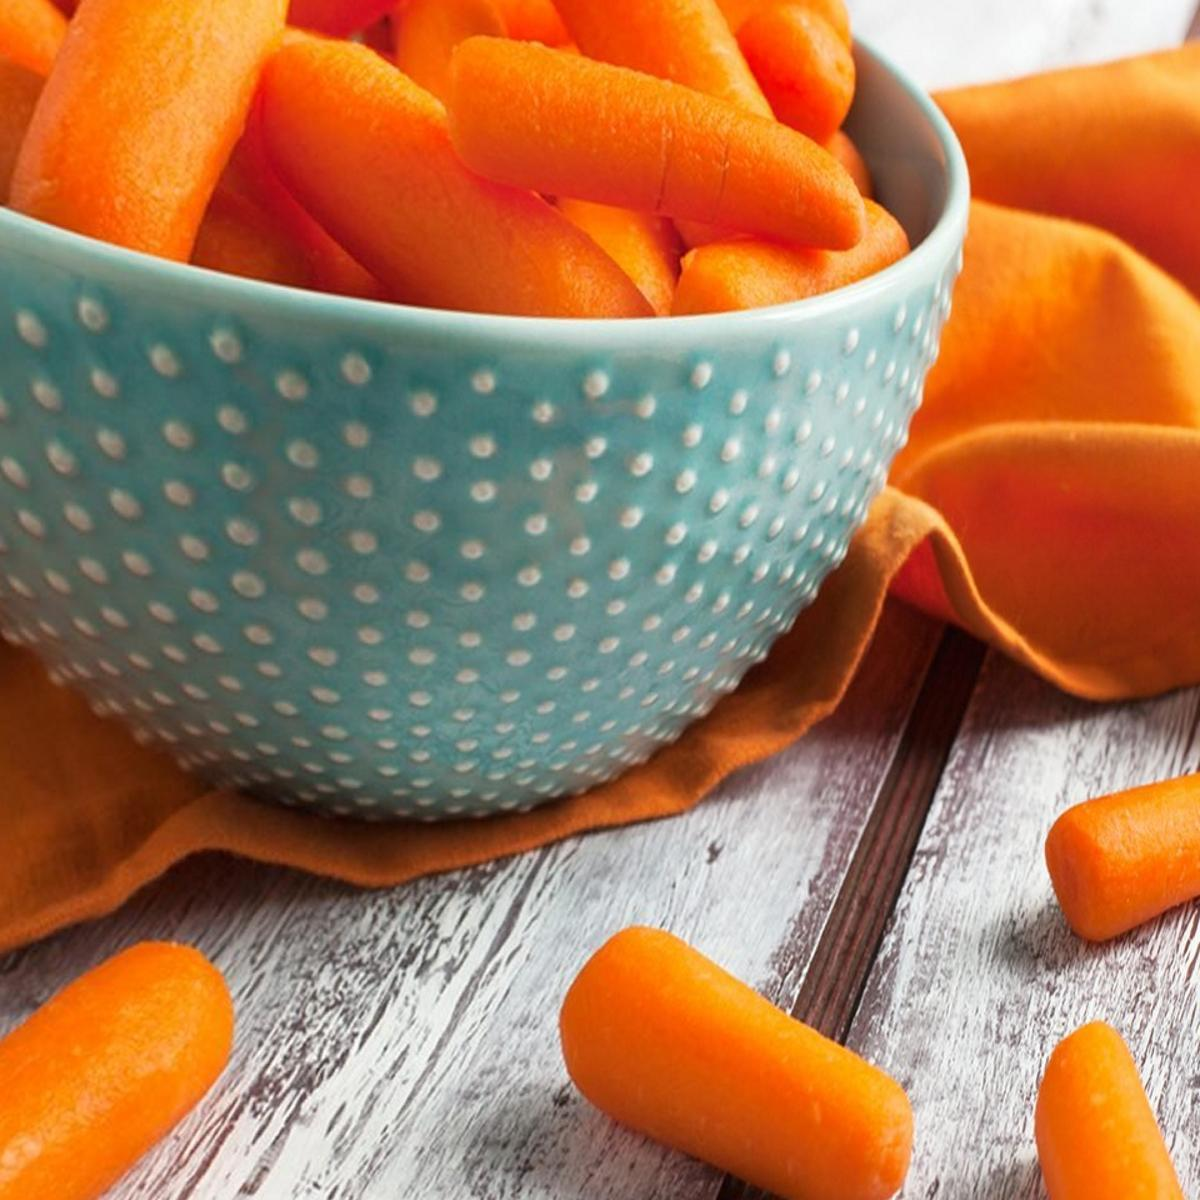carrot: (19, 12, 810, 236), (415, 16, 895, 258), (563, 934, 920, 1200), (0, 926, 227, 1200), (65, 0, 288, 218), (1015, 1026, 1174, 1200), (1021, 792, 1200, 938)
